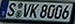character: (28, 3, 39, 18), (6, 2, 16, 17), (53, 4, 63, 19), (22, 2, 31, 18), (60, 4, 69, 20), (45, 4, 55, 18), (39, 3, 48, 18)
